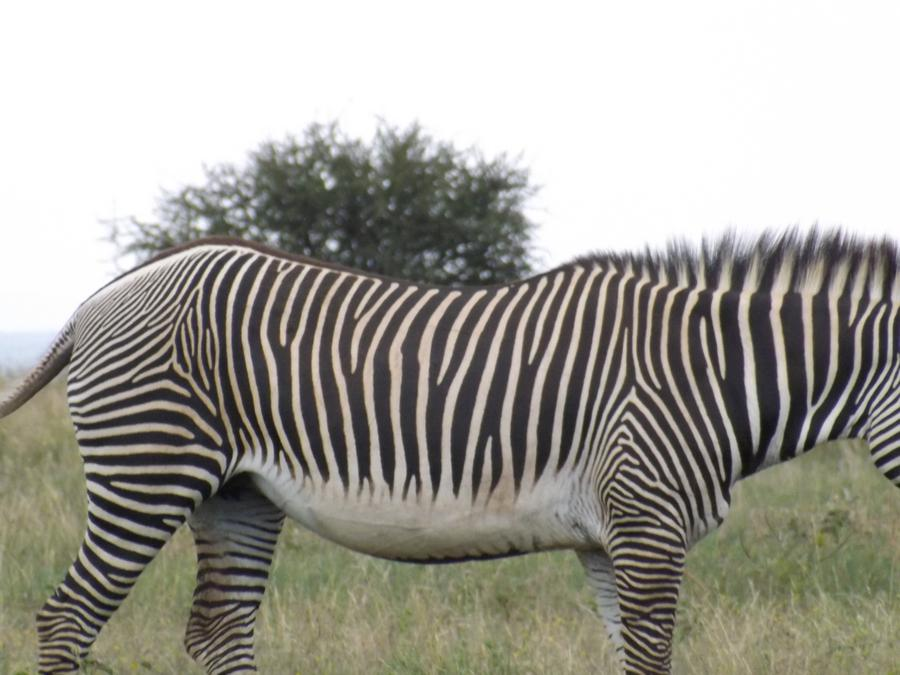zebra_grevys: (71, 201, 698, 533)
